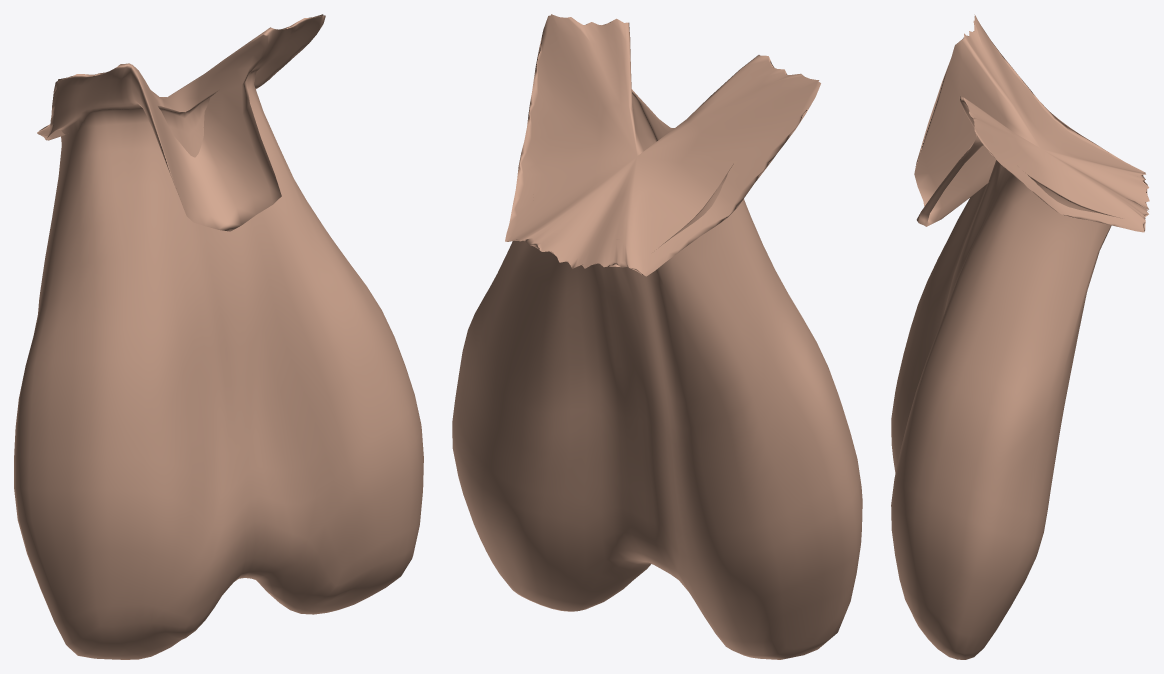
Rendered from makehuman-scrotum.glb.
The picture shows the model from 3 angles, left to right: view 1: azimuth 30°, elevation 25°; view 2: azimuth 150°, elevation 25°; view 3: azimuth 270°, elevation 25°; orthographic projection. The views are drawn at different scales.
Parts seen in each view (by area): view 1: mh_scrotum; view 2: mh_scrotum; view 3: mh_scrotum.
Part boxes in pixels (<box>): mh_scrotum: <box>14,14,423,659</box>; mh_scrotum: <box>452,14,862,659</box>; mh_scrotum: <box>891,14,1149,659</box>.
Bounding box in the file's own units: 0.0776 × 0.1116 × 0.0496.
